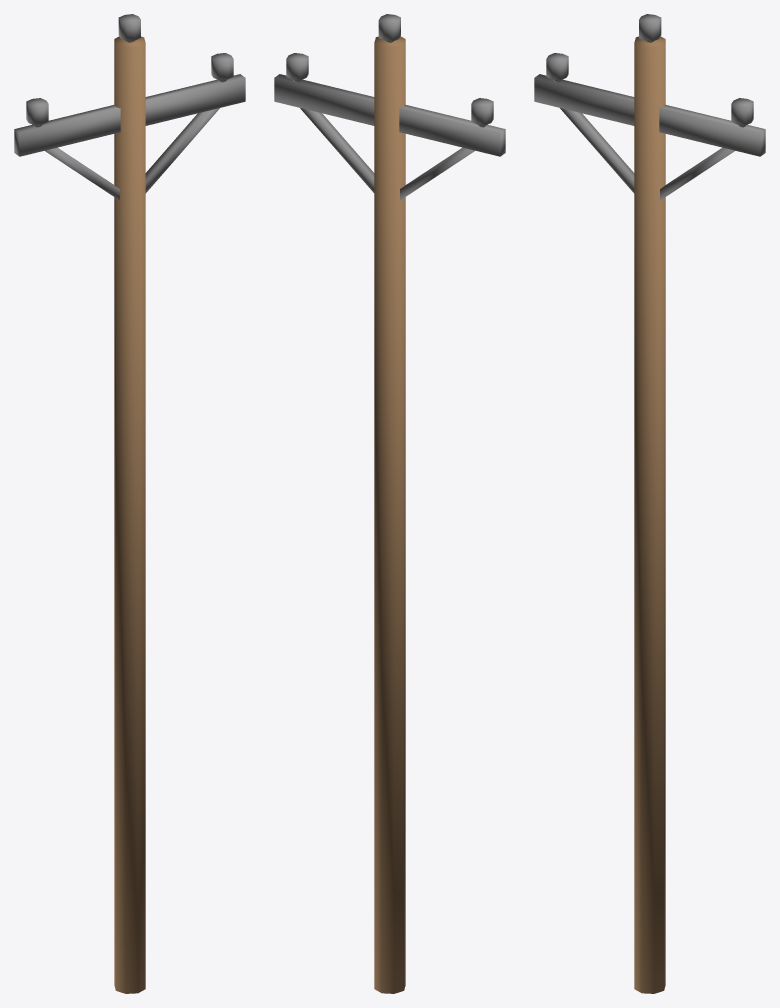
The model's file is pylon.dae.
The picture shows the model from 3 angles, left to right: view 1: azimuth 30°, elevation 25°; view 2: azimuth 150°, elevation 25°; view 3: azimuth 330°, elevation 25°; orthographic projection.
Parts seen in each view (by area): view 1: Pylon; view 2: Pylon; view 3: Pylon.
Part boxes in pixels (x1,y1,x2,y2): Pylon: [14, 14, 245, 993]; Pylon: [274, 14, 505, 993]; Pylon: [534, 14, 765, 993].
Size of the model in its own units: 2 by 0.25 by 8.19.
